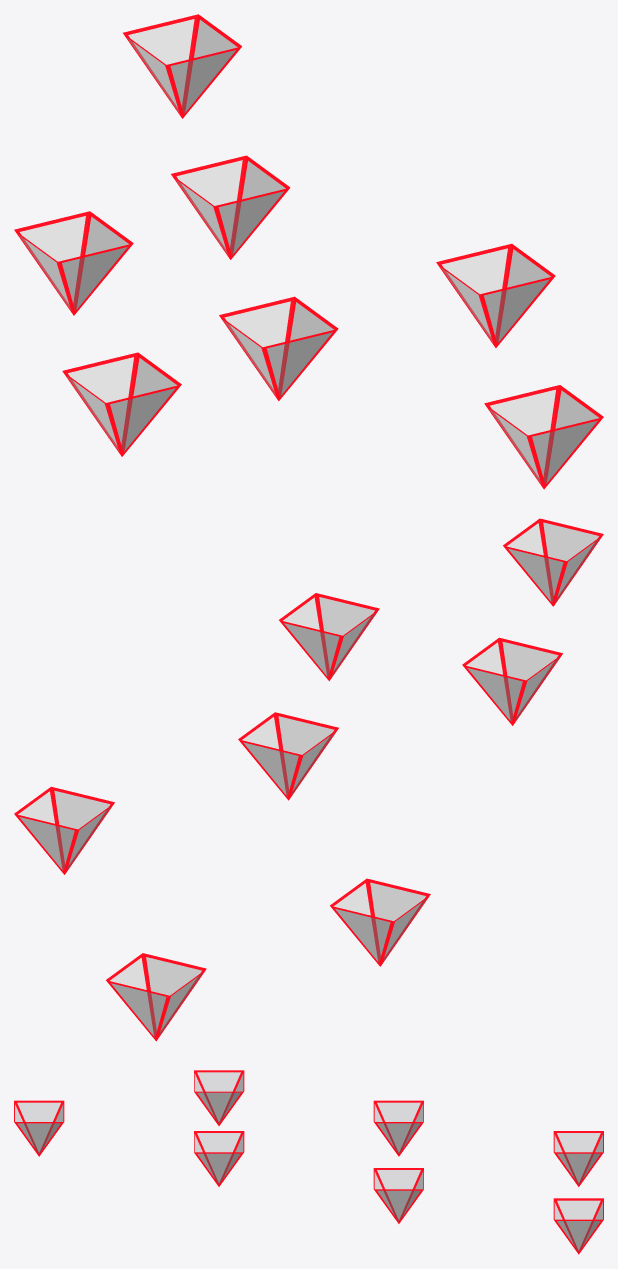
File: (5)H GSpike.fbx
The picture shows the model from 3 angles, top to bottom: view 1: azimuth 30°, elevation 25°; view 2: azimuth 150°, elevation 25°; view 3: azimuth 270°, elevation 25°; orthographic projection. The views are drawn at different scales.
Visible parts, largest first — view 1: UdDownSpike.005, UdDownSpike.002, UdDownSpike.004, UdDownSpike.006, UdDownSpike.003, UdDownSpike.007, UdDownSpike.001; view 2: UdDownSpike.005, UdDownSpike.006, UdDownSpike.007, UdDownSpike.001, UdDownSpike.002, UdDownSpike.003, UdDownSpike.004; view 3: UdDownSpike.001, UdDownSpike.005, UdDownSpike.006, UdDownSpike.004, UdDownSpike.007, UdDownSpike.002, UdDownSpike.003.
Boxes of the visible parts, x1,y1,x2,y2 form: UdDownSpike.005: (171, 155, 290, 259); UdDownSpike.002: (62, 352, 181, 456); UdDownSpike.004: (219, 296, 338, 400); UdDownSpike.006: (14, 211, 133, 315); UdDownSpike.003: (436, 243, 555, 347); UdDownSpike.007: (123, 14, 241, 118); UdDownSpike.001: (484, 385, 603, 489); UdDownSpike.005: (238, 712, 338, 800); UdDownSpike.006: (106, 953, 206, 1041); UdDownSpike.007: (14, 786, 114, 874); UdDownSpike.001: (503, 518, 603, 606); UdDownSpike.002: (330, 878, 430, 966); UdDownSpike.003: (279, 593, 379, 681); UdDownSpike.004: (462, 637, 562, 725); UdDownSpike.001: (14, 1100, 64, 1156); UdDownSpike.005: (373, 1100, 423, 1156); UdDownSpike.006: (553, 1198, 603, 1254); UdDownSpike.004: (194, 1070, 244, 1125); UdDownSpike.007: (553, 1131, 603, 1186); UdDownSpike.002: (373, 1168, 423, 1223); UdDownSpike.003: (194, 1131, 244, 1186).
Size of the model in its own units: 540 by 440 by 1640.
